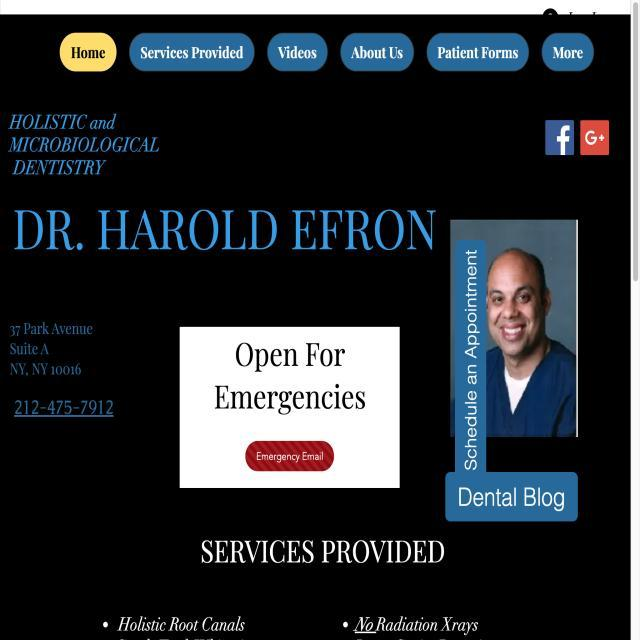button: (132, 29, 252, 66), (431, 27, 518, 74), (243, 440, 338, 474), (352, 27, 408, 70), (274, 29, 328, 65), (57, 34, 111, 66), (542, 33, 588, 64)
